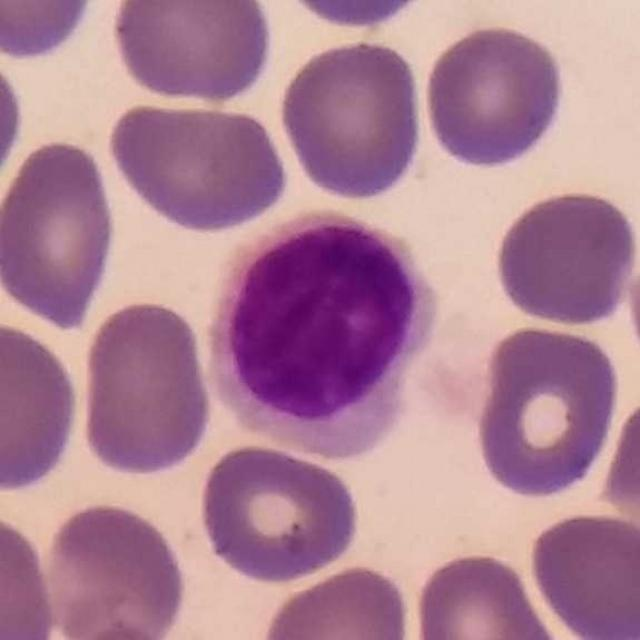Lymphocyte: (211, 206, 497, 458)
RBC: (471, 321, 624, 503), (103, 96, 294, 236), (75, 295, 218, 481), (275, 34, 428, 202), (195, 439, 364, 586), (0, 132, 121, 331), (418, 19, 571, 171), (36, 497, 189, 640), (490, 183, 639, 329), (107, 0, 278, 107), (0, 316, 85, 497), (525, 507, 640, 639), (408, 546, 565, 640), (256, 562, 415, 640), (0, 506, 61, 640), (597, 385, 640, 552), (0, 0, 102, 63), (277, 0, 444, 33), (0, 42, 29, 203), (48, 620, 195, 640), (623, 215, 640, 386)
